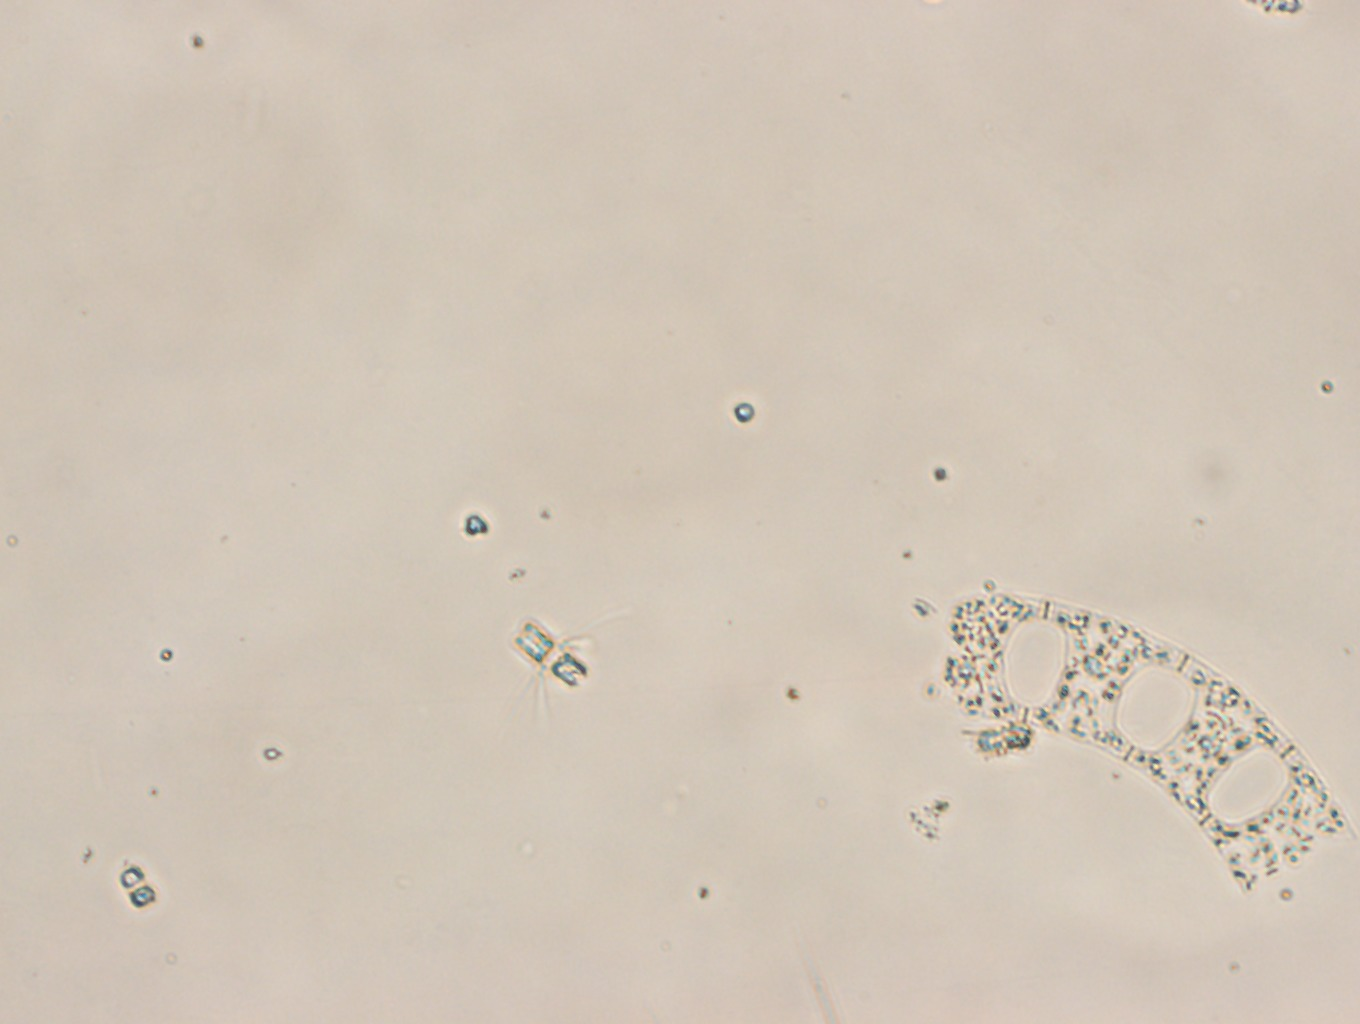chaetoceros: (502, 607, 633, 723)
eucampia: (936, 592, 1355, 894)
